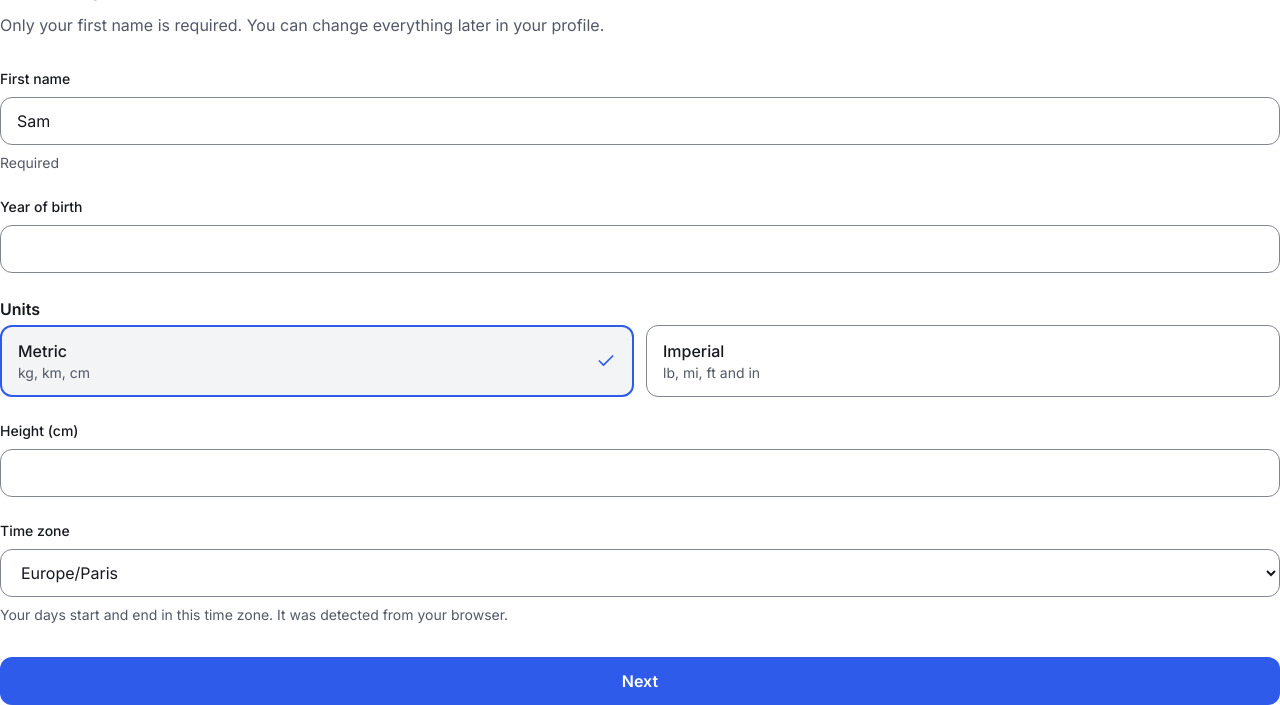
Test case: ProfileStep (PRD §6.2 step 1) › a failed save shows a generic message
(page scrolled)
Click the button "Next" at (640,681), box [0,657,1279,704]
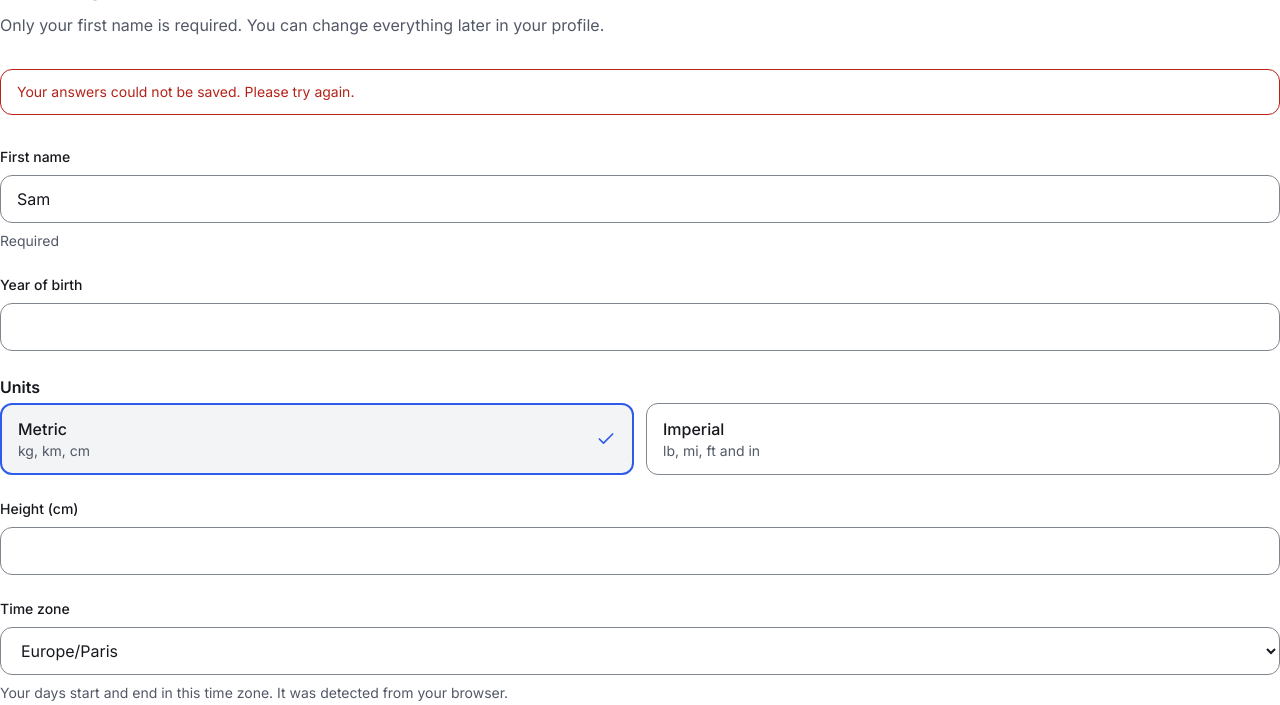
Now the message reads "Your answers could not be saved. Please try again.", box [17,83,354,100]
